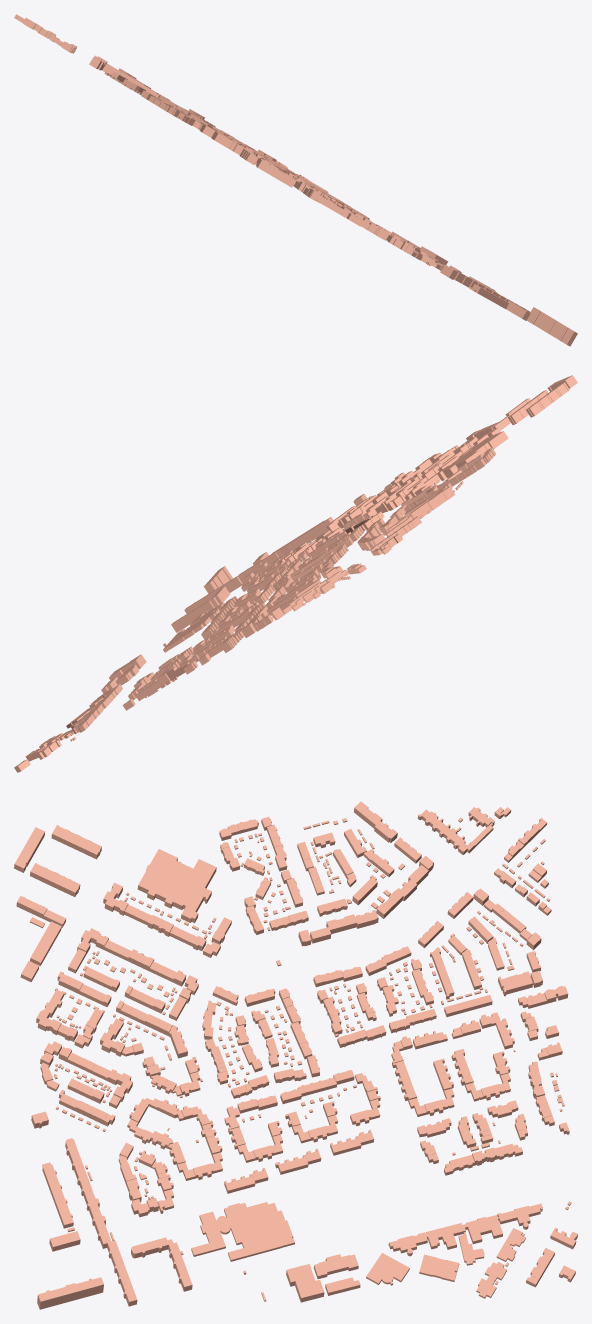
3 renders of one model, top to bottom at view 1: azimuth 30°, elevation 25°; view 2: azimuth 150°, elevation 25°; view 3: azimuth 270°, elevation 25°, orthographic. The views are drawn at different scales.
Bounding box in the file's own units: 540 × 398 × 639.
